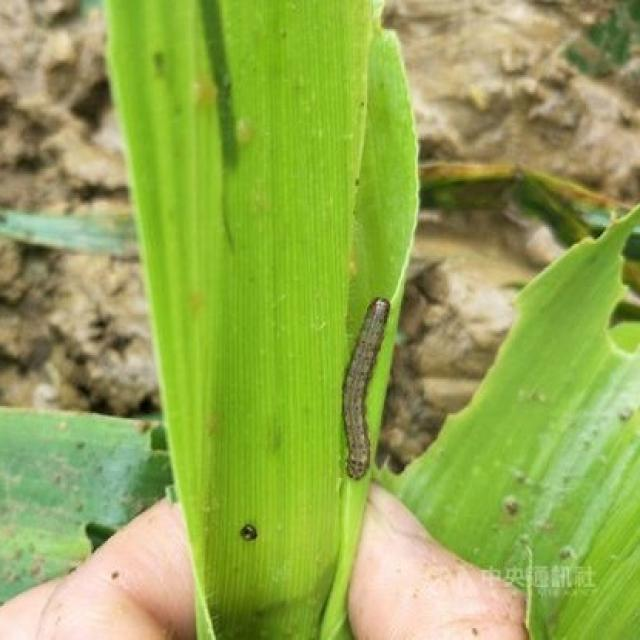Fall-armyworm: (335, 290, 397, 492)
